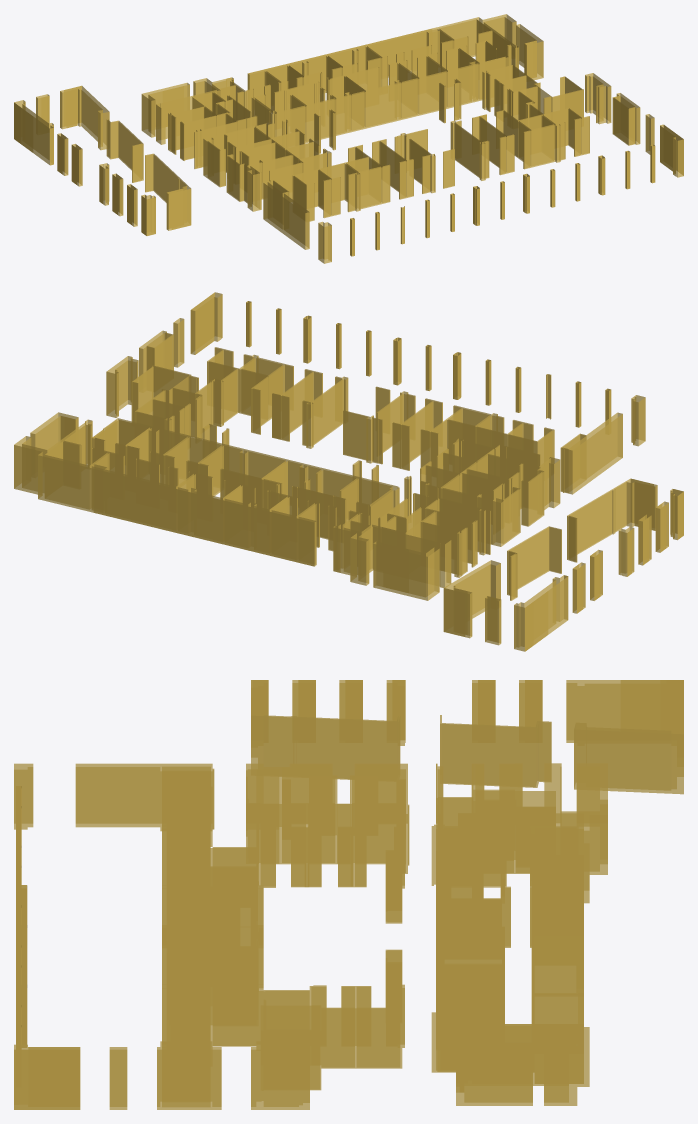
Rendered from ISELF_3rdfloorwalls.obj.
The picture shows the model from 3 angles, top to bottom: view 1: azimuth 30°, elevation 25°; view 2: azimuth 150°, elevation 25°; view 3: azimuth 270°, elevation 25°; orthographic projection. The views are drawn at different scales.
Parts seen in each view (by area): view 1: 3rdFloor_walls; view 2: 3rdFloor_walls; view 3: 3rdFloor_walls.
Part boxes in pixels (left/top/right/bottom): 3rdFloor_walls: left=14, top=14, right=683, bottom=263; 3rdFloor_walls: left=14, top=292, right=683, bottom=651; 3rdFloor_walls: left=14, top=680, right=683, bottom=1109.
Bounding box in the file's own units: 2376 × 180 × 1820.
